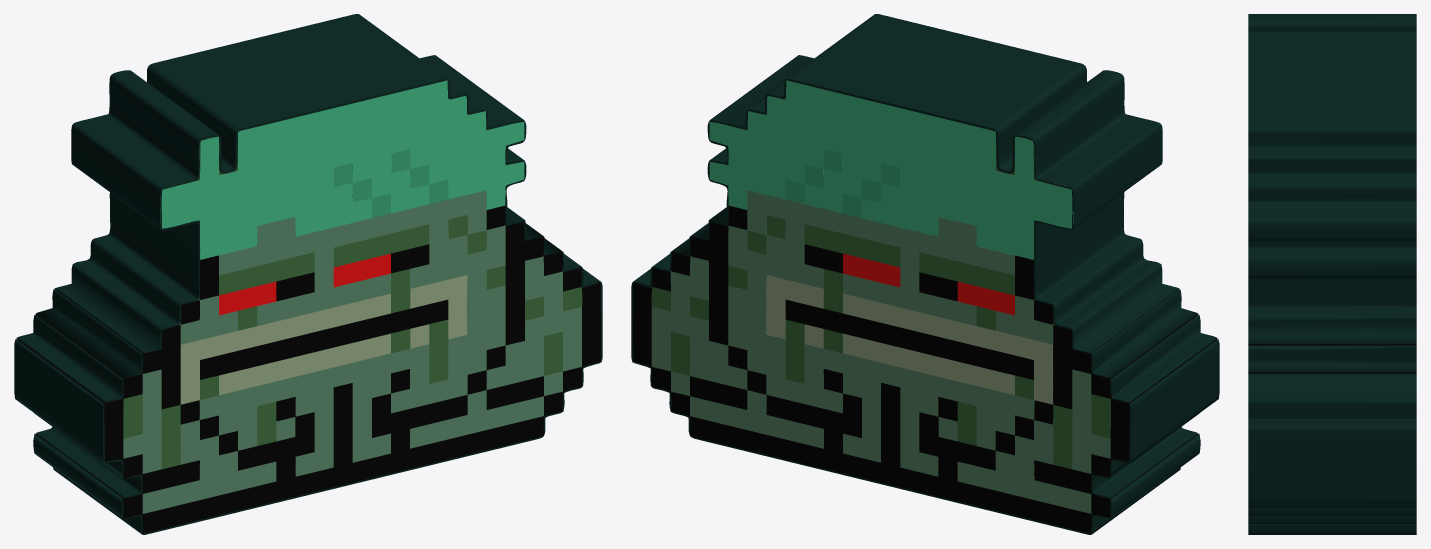
Rendered from Toadz_5422.glb.
The picture shows the model from 3 angles, left to right: view 1: azimuth 30°, elevation 25°; view 2: azimuth 150°, elevation 25°; view 3: azimuth 270°, elevation 25°; orthographic projection. The views are drawn at different scales.
Parts seen in each view (by area): view 1: Curve; view 2: Curve; view 3: Curve.
Part boxes in pixels (left/top/right/bottom): Curve: left=14, top=14, right=602, bottom=534; Curve: left=631, top=14, right=1219, bottom=534; Curve: left=1248, top=14, right=1416, bottom=534.
Size of the model in its own units: 3.25 by 2.38 by 1.
